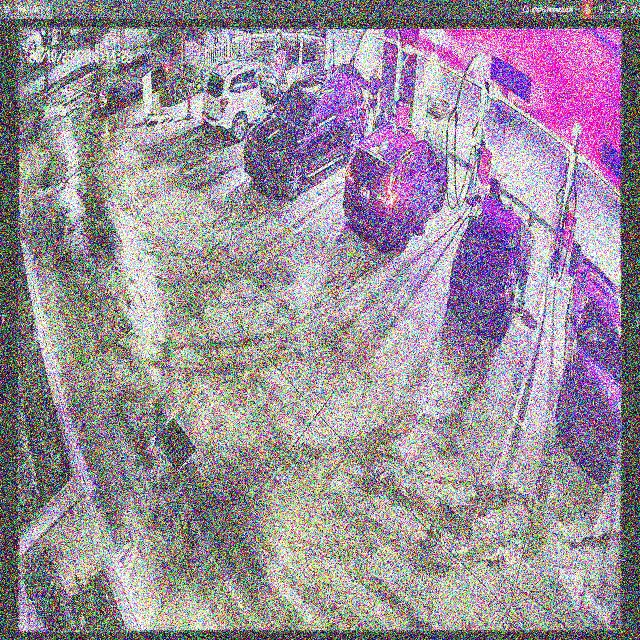Car: (245, 62, 365, 200), (347, 121, 448, 251), (447, 194, 532, 341)
